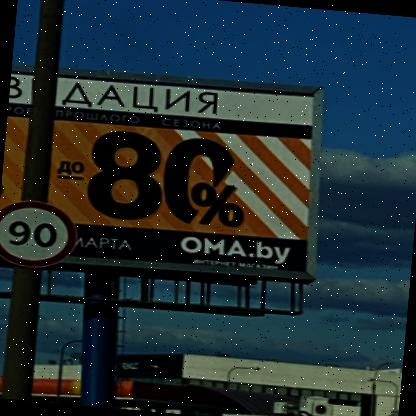speedlimit: (0, 196, 79, 271)
